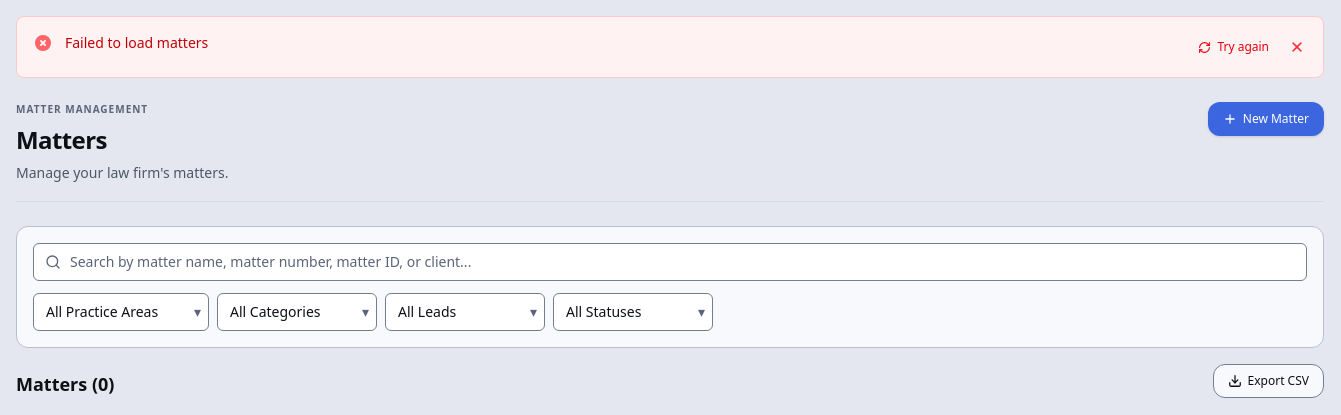
Test: MattersGrid › error banner › dismisses a load error
Expected: the text "Failed to load matters" is shown, [65, 33, 208, 52]
Click the button named "Close" at point(1297, 47), box [1281, 31, 1313, 63]
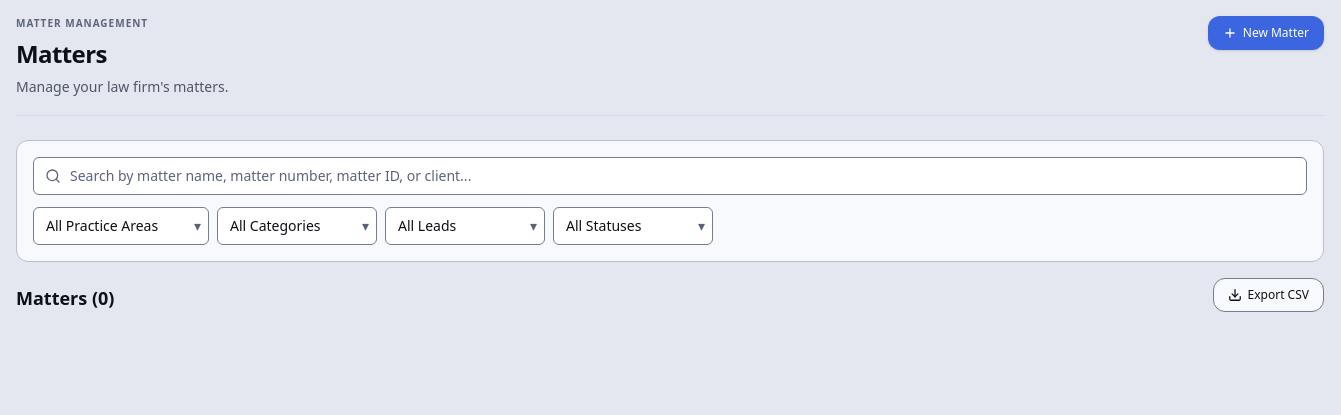
Result: the text "Failed to load matters" is gone
